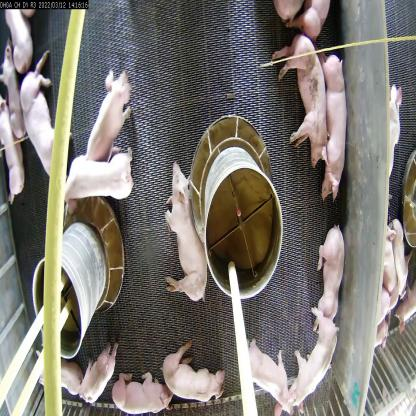Pig: (276, 24, 330, 168), (160, 176, 212, 308), (316, 47, 358, 199), (85, 65, 134, 171), (294, 301, 340, 412), (21, 59, 64, 176), (158, 339, 226, 412), (312, 212, 352, 322), (60, 152, 136, 209), (238, 343, 295, 416), (111, 368, 175, 415), (77, 342, 124, 403), (36, 349, 88, 403), (0, 99, 26, 203)
